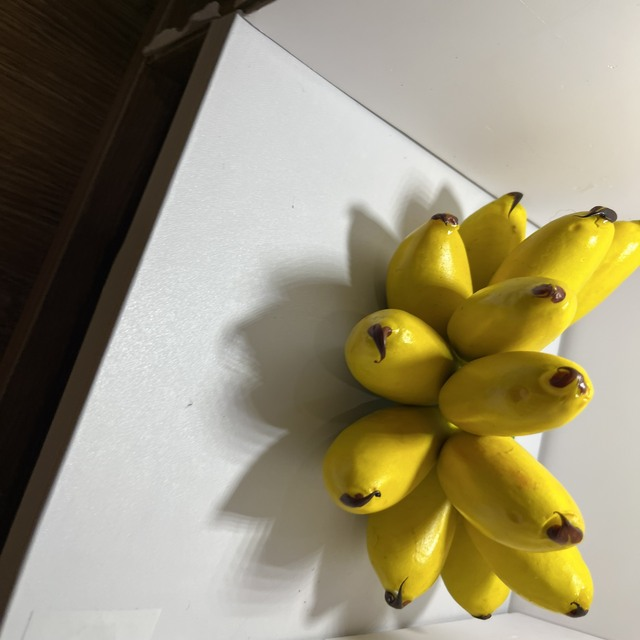Chuoi: (319, 179, 640, 633)
